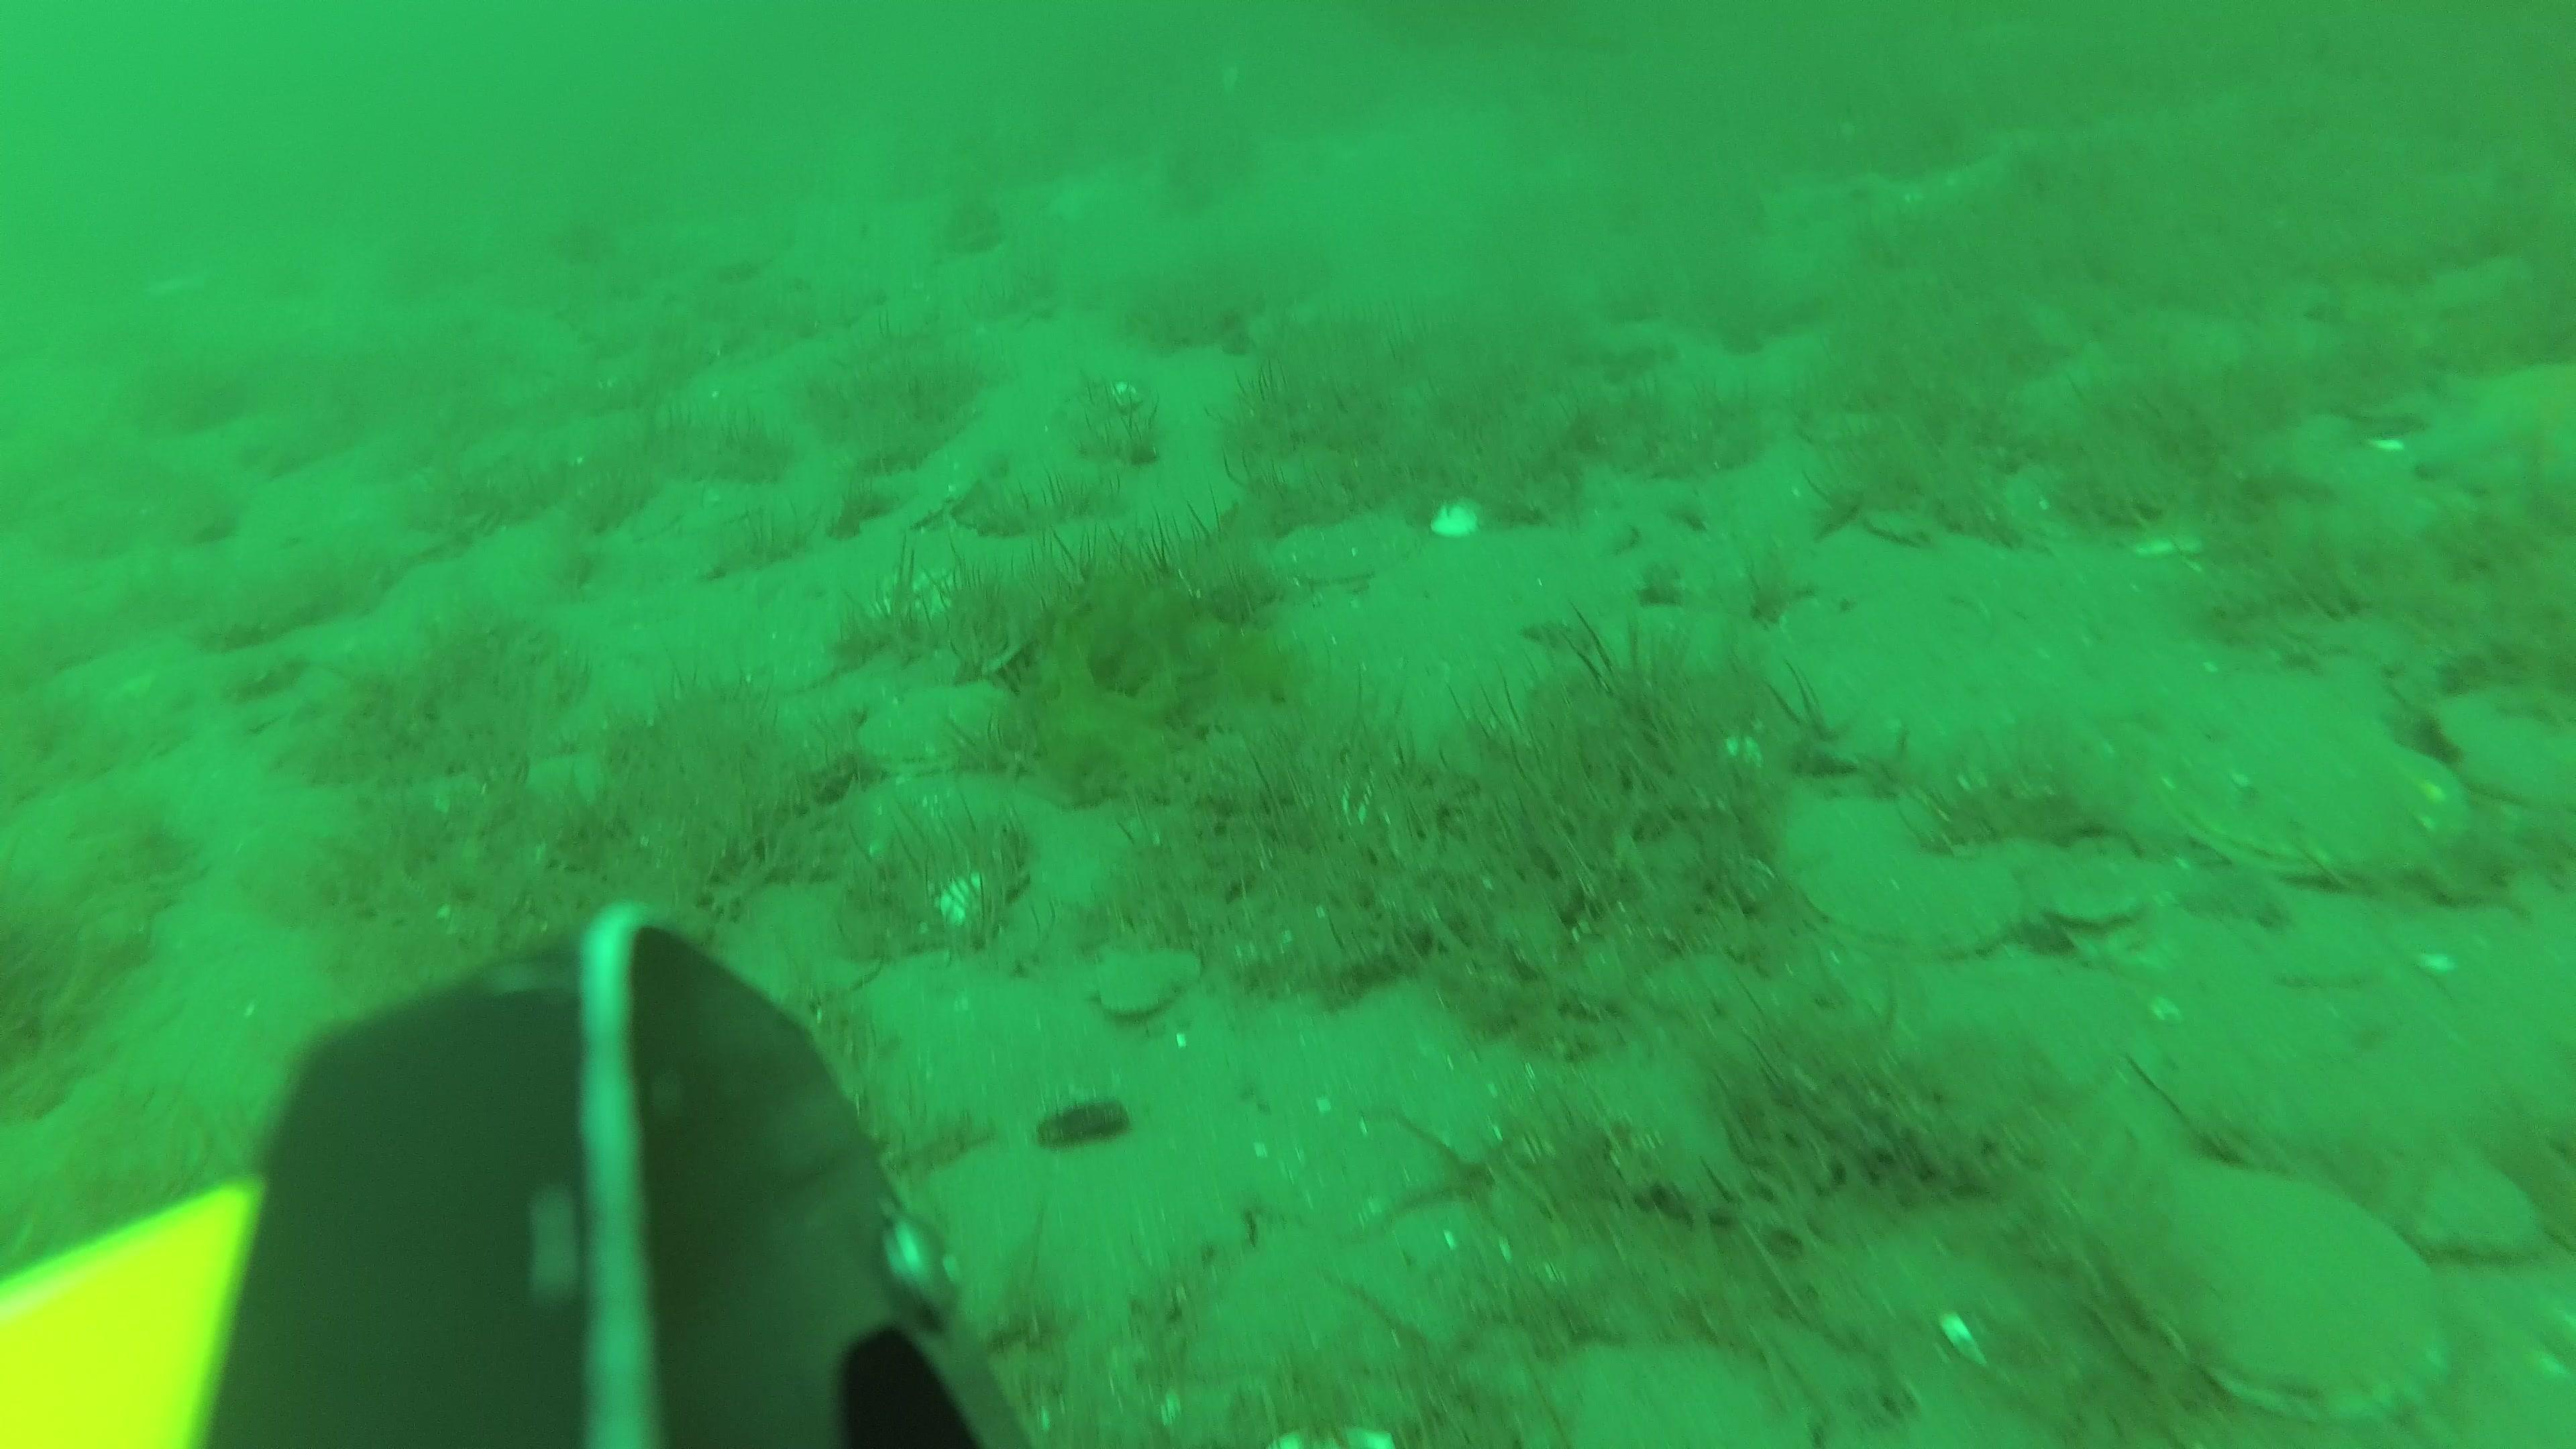scallop: (2123, 1154, 2445, 1412), (2166, 701, 2457, 890), (1806, 840, 2020, 959), (2440, 674, 2576, 817), (867, 681, 1021, 780), (2420, 1157, 2532, 1265), (1279, 510, 1421, 582), (1086, 950, 1203, 1017), (2054, 867, 2141, 931)
starfish: (2403, 354, 2576, 485)
